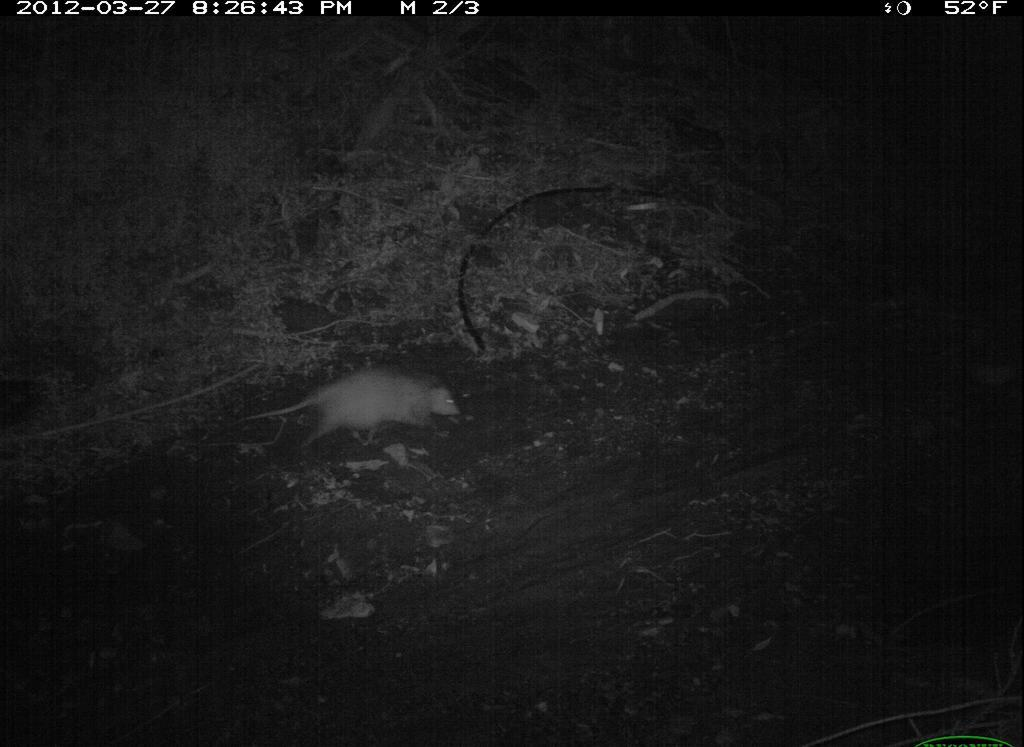opossum: (231, 347, 483, 460)
